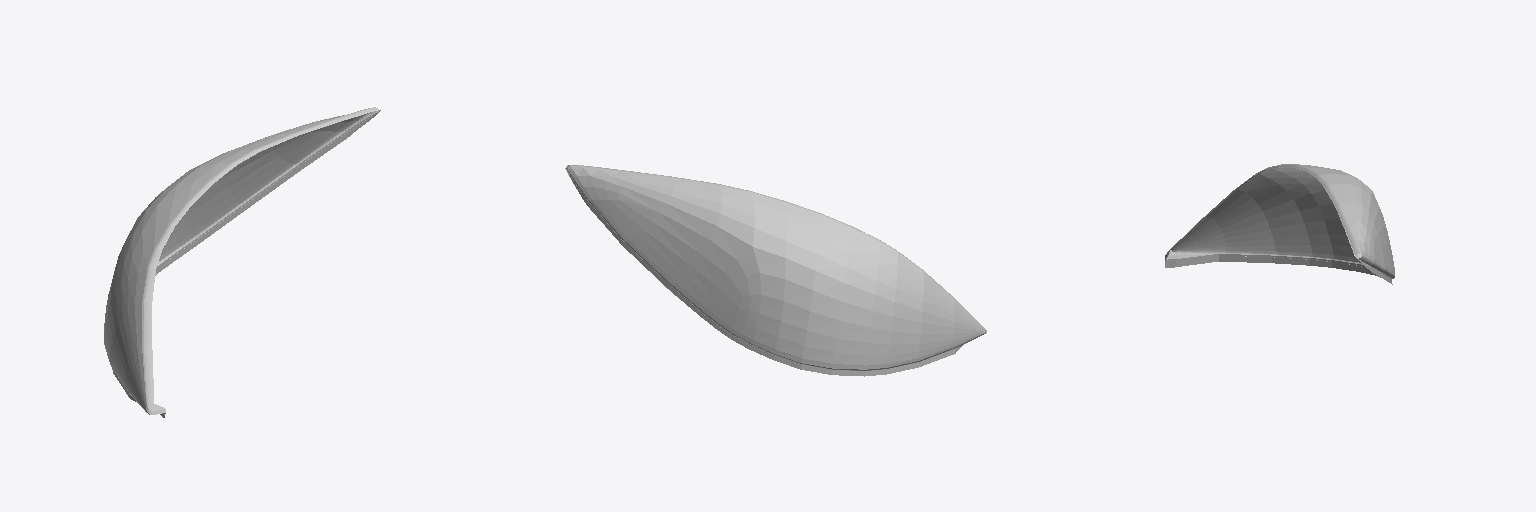
3 renders of one model, left to right at view 1: azimuth 30°, elevation 25°; view 2: azimuth 150°, elevation 25°; view 3: azimuth 270°, elevation 25°, orthographic.
Visible parts, largest first — view 1: Z020_541C_L_Z020_541C_L_2_DTaSI, Z020_541C_L_1_N_Z020_541C_L, Z020_541C_L_Z020_541C_L_3_D; view 2: Z020_541C_L_Z020_541C_L_2_DTaSI, Z020_541C_L_Z020_541C_L_3_D; view 3: Z020_541C_L_1_N_Z020_541C_L, Z020_541C_L_Z020_541C_L_2_DTaSI, Z020_541C_L_Z020_541C_L_3_D.
Boxes of the visible parts, <box> form: Z020_541C_L_Z020_541C_L_2_DTaSI: <box>104,107,378,414</box>; Z020_541C_L_1_N_Z020_541C_L: <box>157,110,378,265</box>; Z020_541C_L_Z020_541C_L_3_D: <box>112,110,380,417</box>; Z020_541C_L_Z020_541C_L_2_DTaSI: <box>566,165,986,370</box>; Z020_541C_L_Z020_541C_L_3_D: <box>565,165,962,376</box>; Z020_541C_L_1_N_Z020_541C_L: <box>1169,167,1362,266</box>; Z020_541C_L_Z020_541C_L_2_DTaSI: <box>1165,164,1394,278</box>; Z020_541C_L_Z020_541C_L_3_D: <box>1165,166,1392,284</box>.
Bounding box in the file's own units: 74.97 × 36.79 × 45.72.